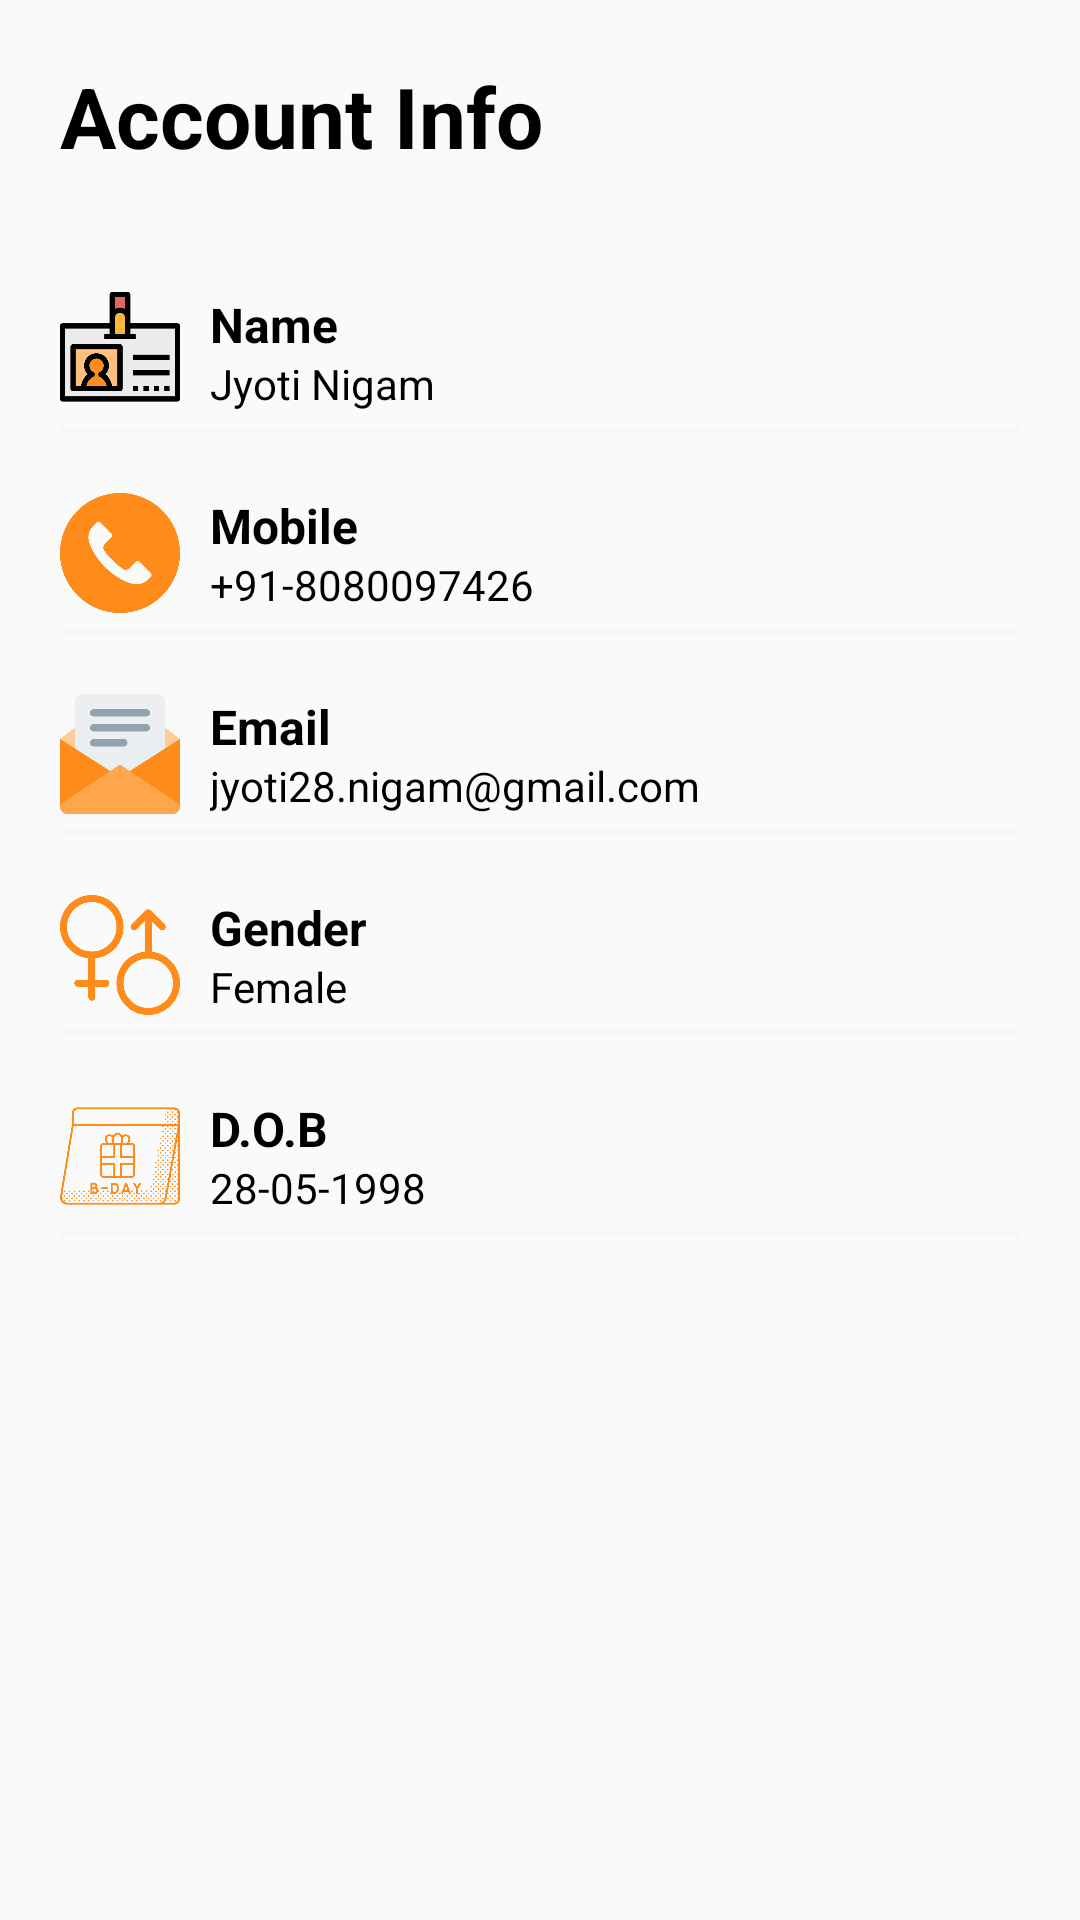

Point at icon controls on the screen. Image size 1080 × 1920, points as point (x, y).
user birthday: point (120, 1156)
